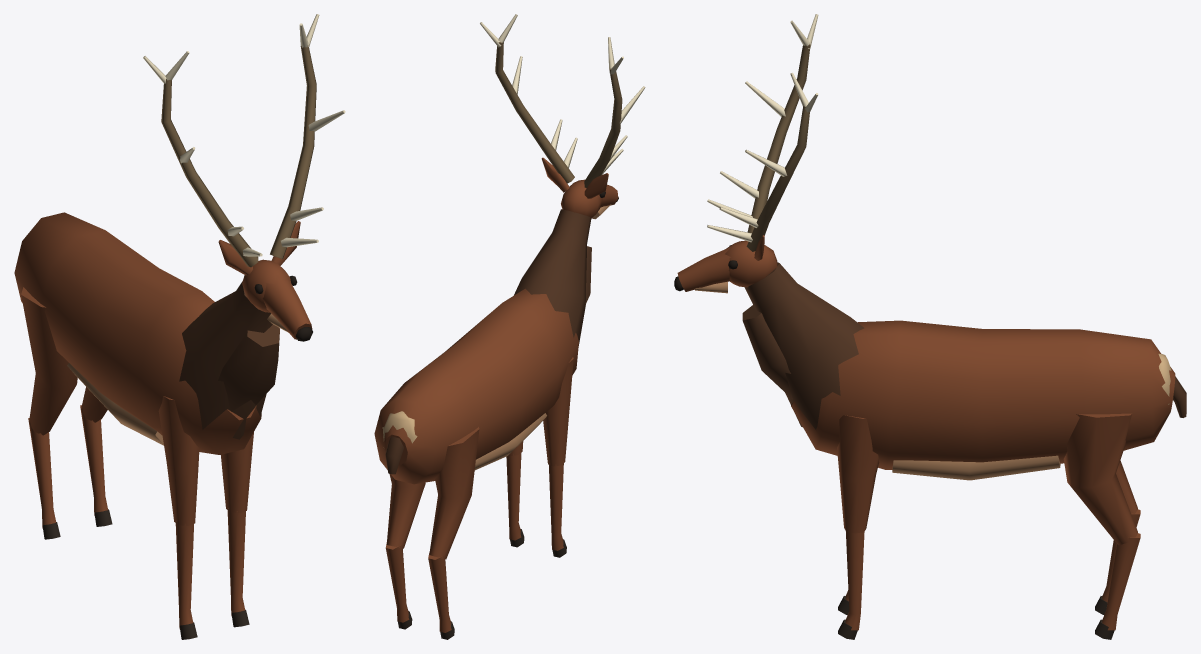
Rendered from animal_deer_stag.glb.
3 renders of one model, left to right at view 1: azimuth 30°, elevation 25°; view 2: azimuth 150°, elevation 25°; view 3: azimuth 270°, elevation 25°, orthographic. The views are drawn at different scales.
Visible parts, largest first — view 1: body, neck, head, legU_BR, legU_FR, legL_FL, legL_FR, legU_FL, legL_BL, legL_BR, legU_BL, ear_R; view 2: body, head, neck, legU_BR, legU_FR, legU_BL, legL_FR, legL_FL, legL_BR, legL_BL, tail; view 3: body, neck, head, legU_BL, legU_FL, legL_BL, legL_FL.
Boxes of the visible parts, bbox=[...] form: body: bbox=[14, 212, 261, 454]; neck: bbox=[179, 281, 279, 439]; head: bbox=[143, 14, 345, 341]; legU_BR: bbox=[21, 287, 77, 435]; legU_FR: bbox=[158, 396, 199, 525]; legL_FL: bbox=[227, 508, 249, 627]; legL_FR: bbox=[175, 521, 197, 639]; legU_FL: bbox=[221, 432, 253, 513]; legL_BL: bbox=[80, 405, 112, 526]; legL_BR: bbox=[28, 418, 60, 539]; legU_BL: bbox=[81, 387, 107, 422]; ear_R: bbox=[218, 240, 252, 275]; body: bbox=[374, 288, 578, 484]; head: bbox=[480, 14, 645, 219]; neck: bbox=[514, 209, 591, 345]; legU_BR: bbox=[429, 427, 479, 559]; legU_FR: bbox=[543, 357, 573, 466]; legU_BL: bbox=[386, 474, 425, 548]; legL_FR: bbox=[548, 461, 566, 557]; legL_FL: bbox=[506, 451, 524, 547]; legL_BR: bbox=[428, 552, 454, 639]; legL_BL: bbox=[385, 542, 412, 629]; tail: bbox=[385, 436, 403, 474]; body: bbox=[791, 320, 1175, 480]; neck: bbox=[742, 262, 864, 429]; head: bbox=[674, 14, 818, 293]; legU_BL: bbox=[1063, 413, 1137, 545]; legU_FL: bbox=[837, 415, 879, 533]; legL_BL: bbox=[1095, 533, 1140, 639]; legL_FL: bbox=[838, 530, 864, 639].
Bounding box in the file's own units: 0.749 × 2.52 × 2.02.
